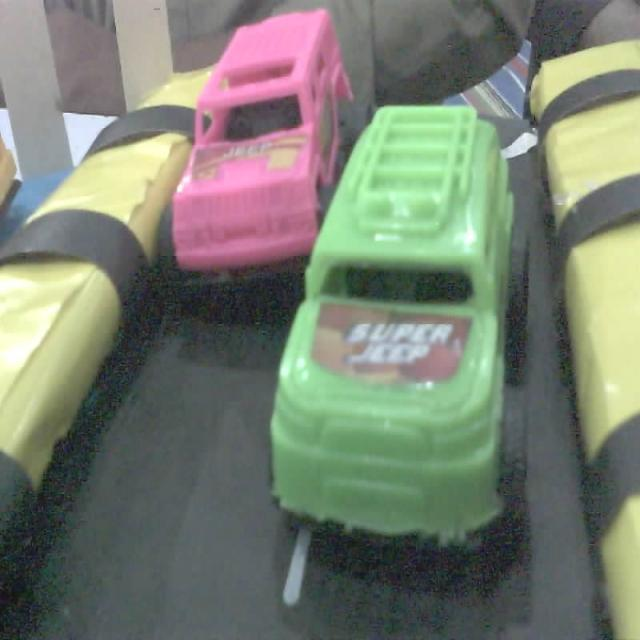TwoCar: (259, 99, 548, 561), (166, 5, 345, 284)
